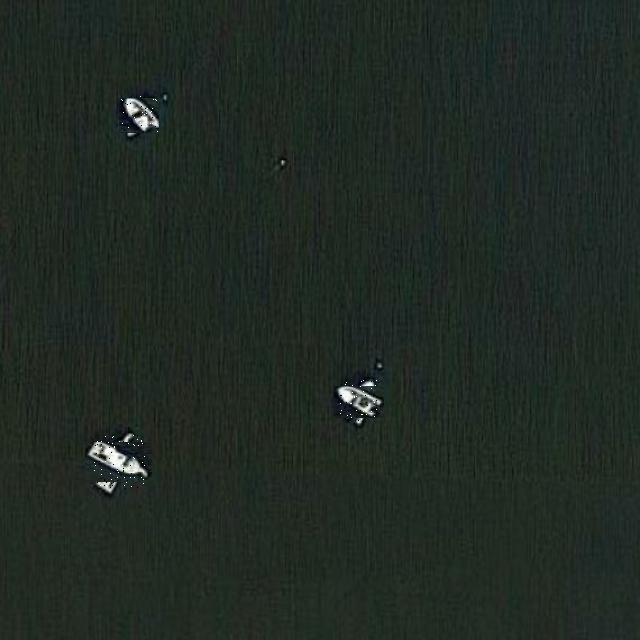boat: (91, 435, 145, 489), (338, 380, 379, 422), (120, 96, 158, 134)
